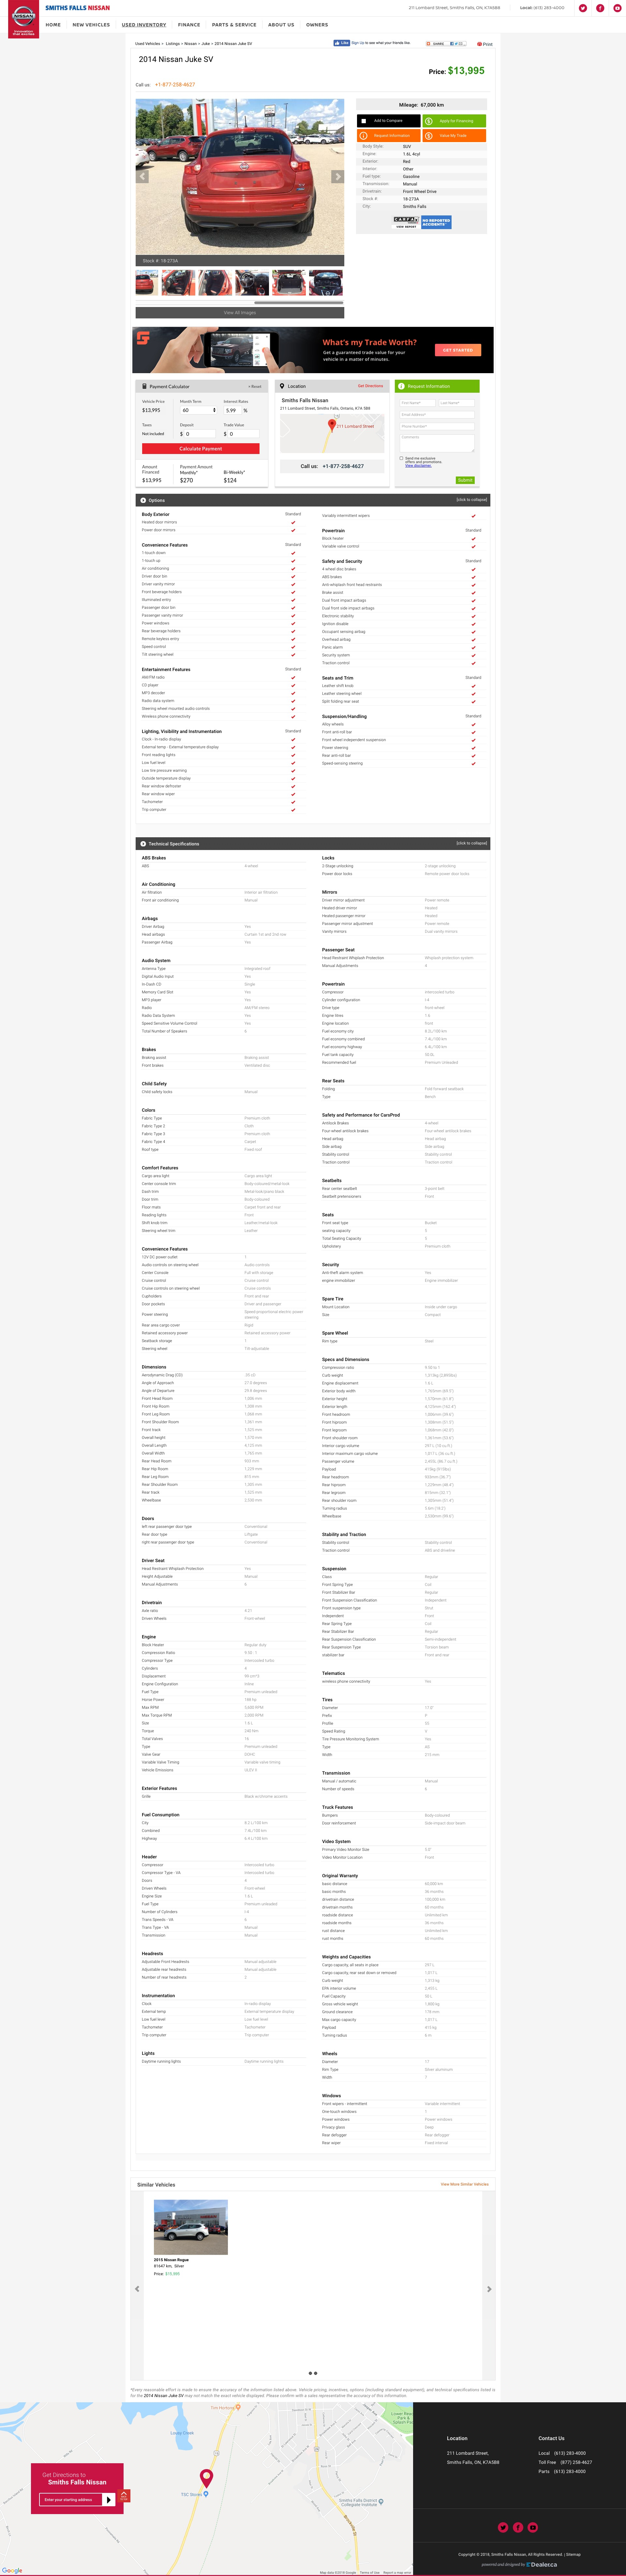car: (330, 169, 345, 184)
